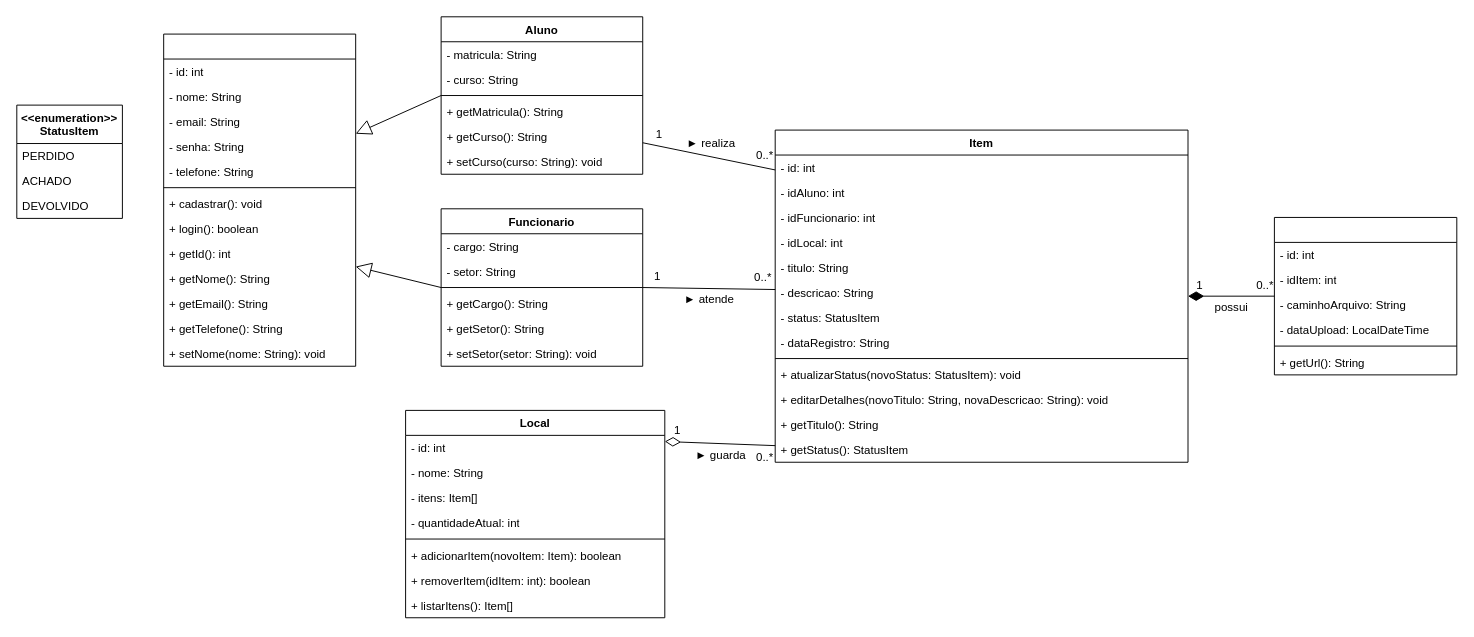
Some shapes in this 1474 by 637 pixel diagram are drawn without their labels. Each missing label, with the box of its shape:
Foto: (1273, 216, 1457, 375)
Usuario: (163, 33, 356, 366)
